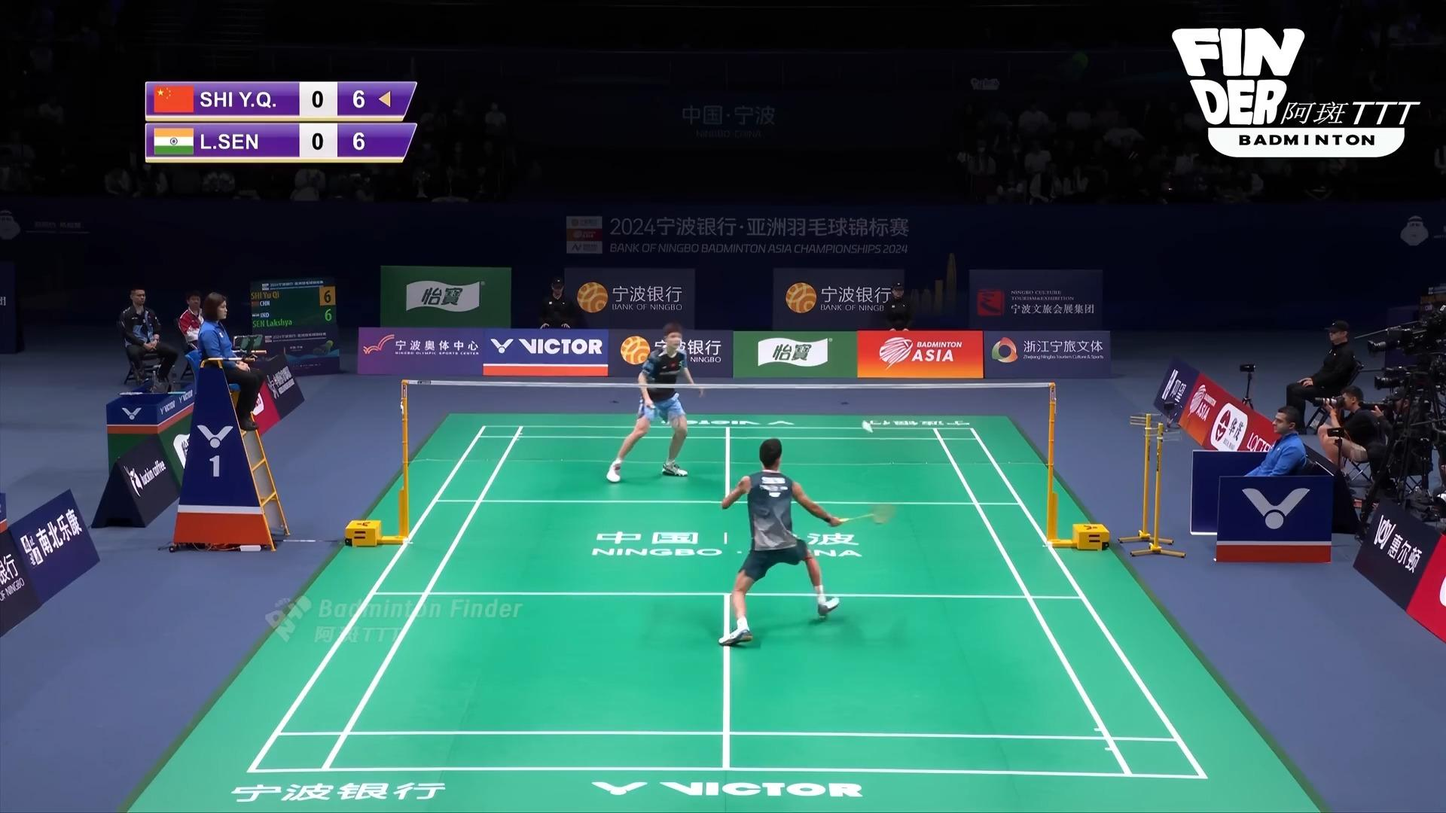player: (718, 439, 843, 646), (607, 322, 704, 483)
shuttlecock: (864, 423, 873, 433)
